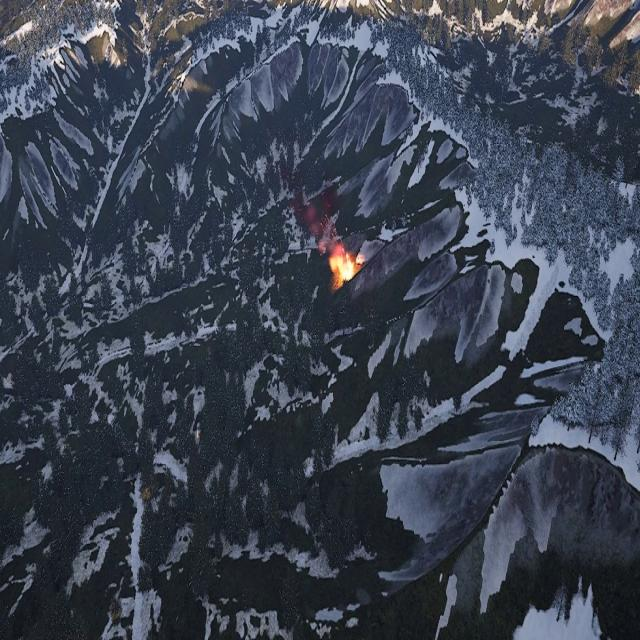fire: (330, 247, 364, 285)
smoke: (295, 174, 344, 262)
